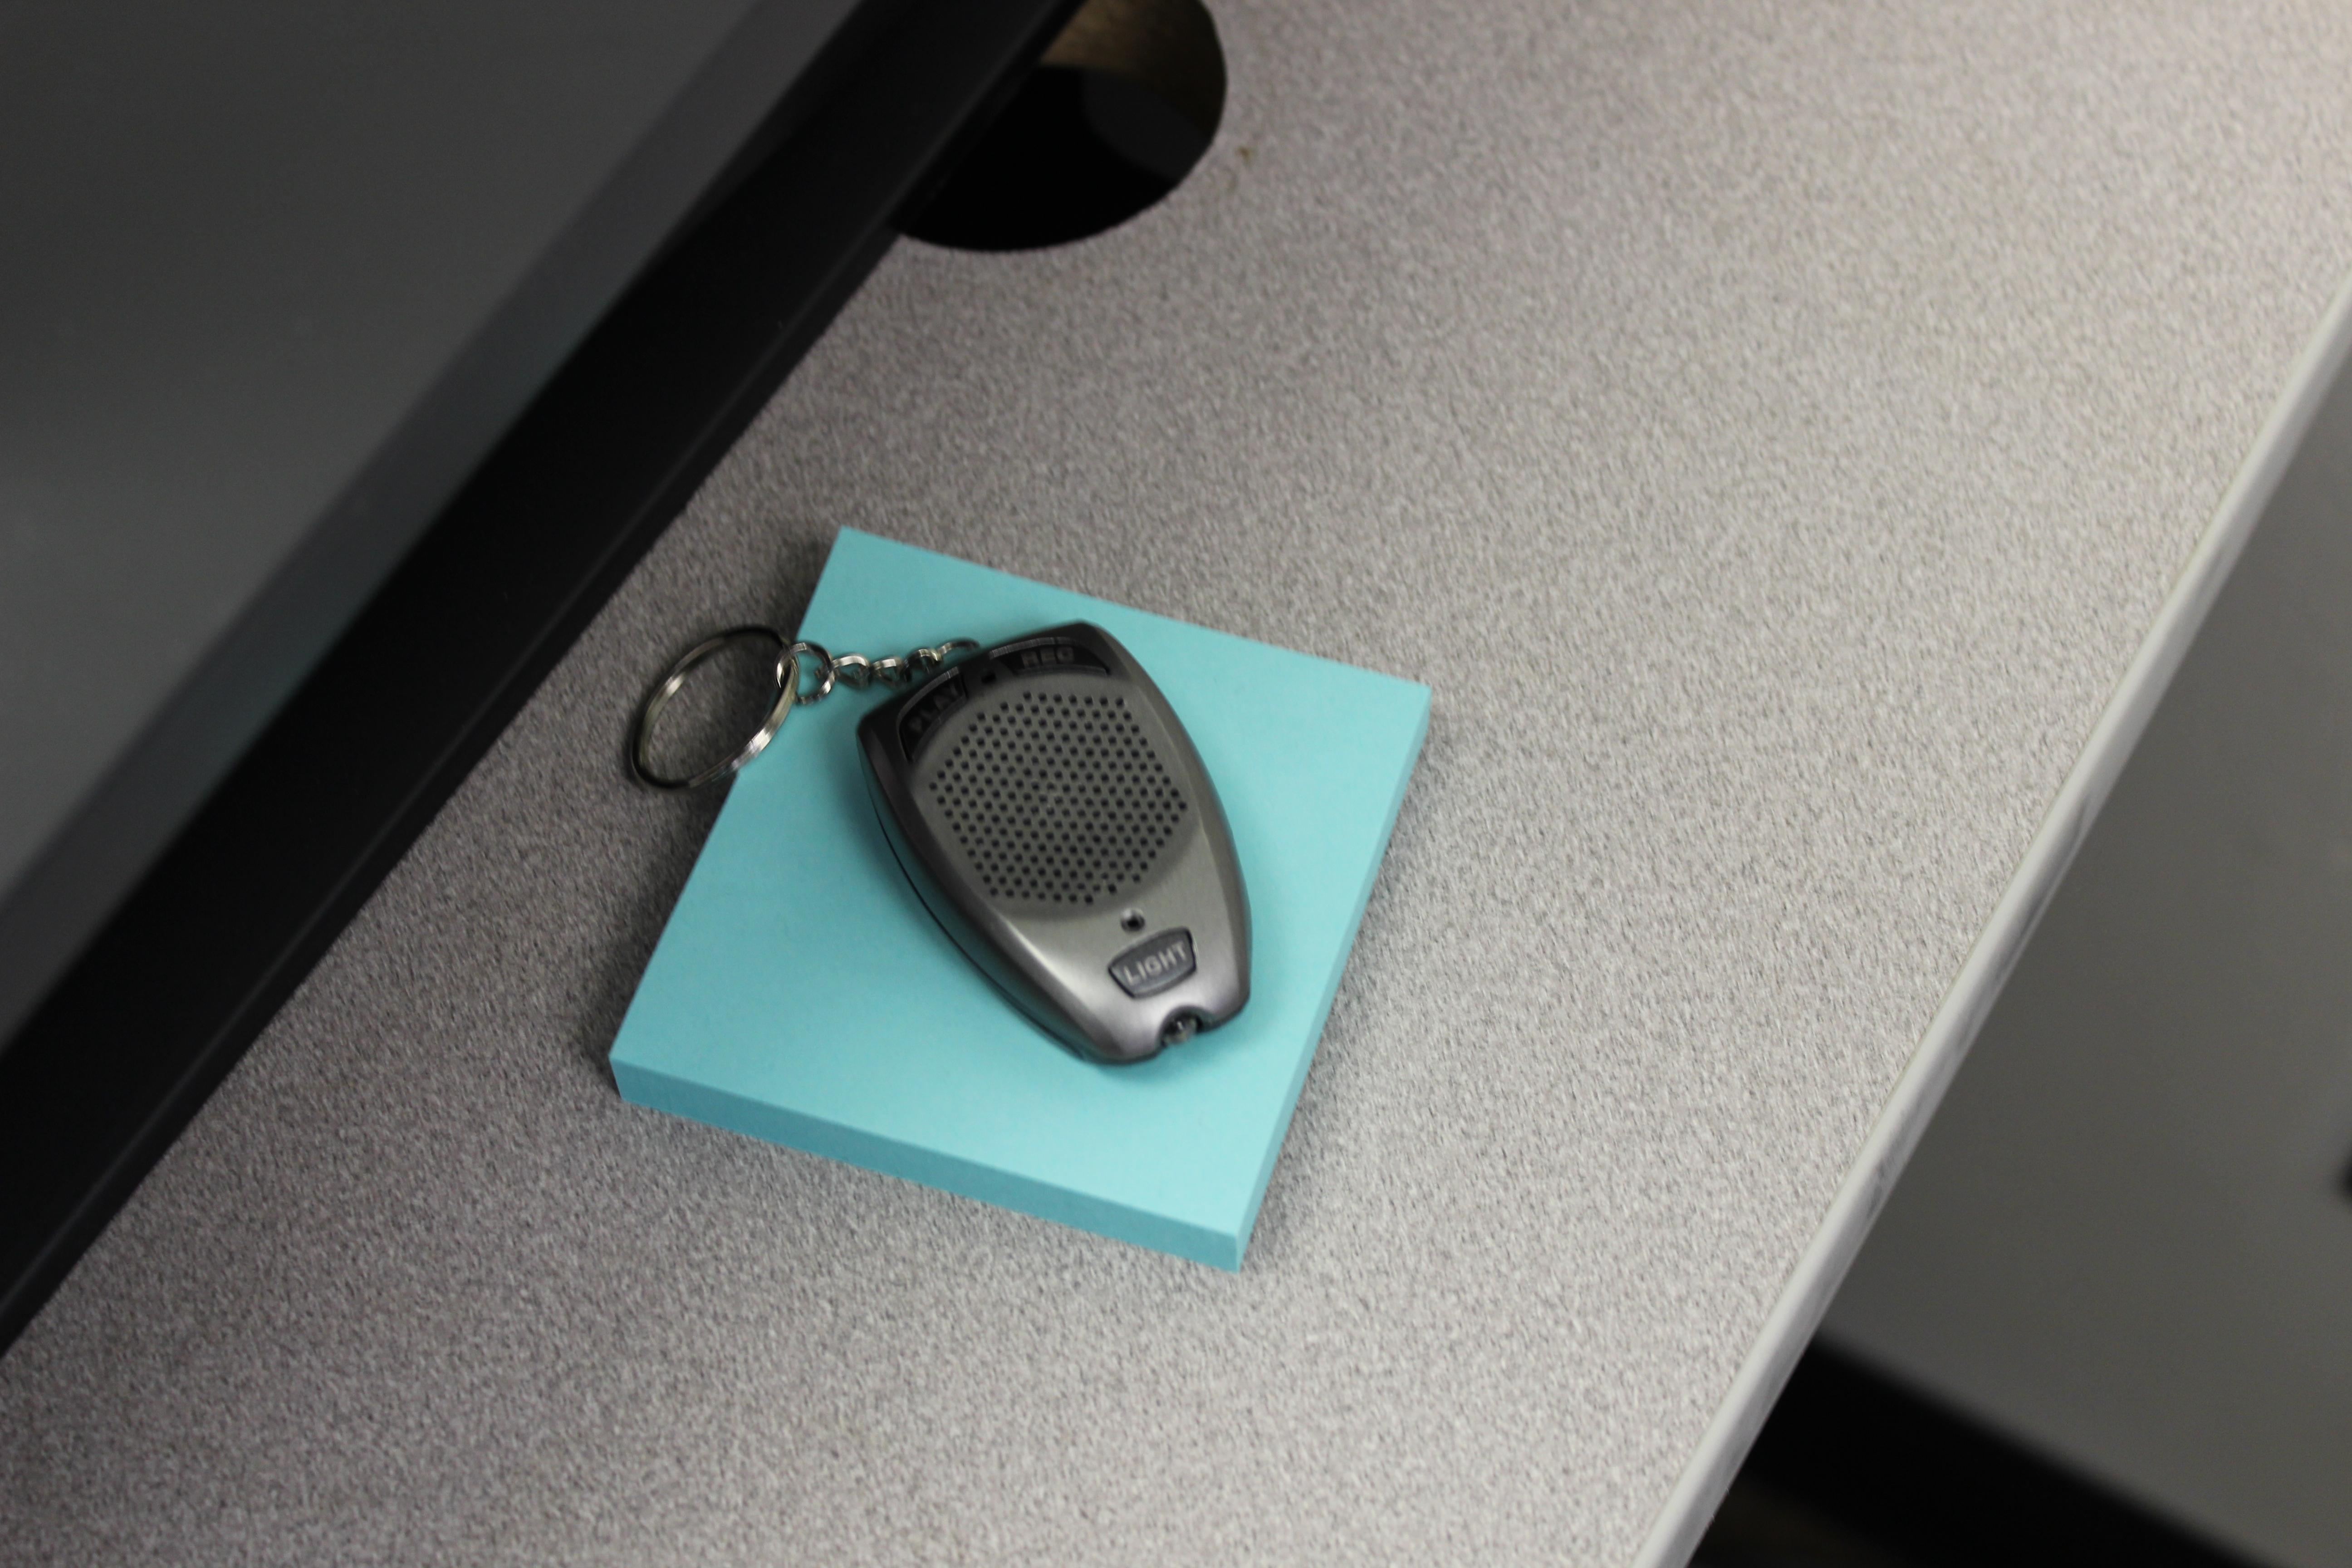voiceRecorder: (600, 579, 1281, 1094)
